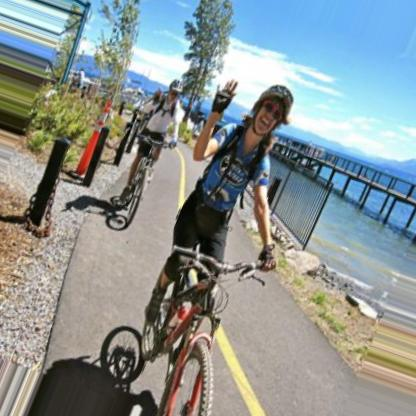with helmet: (251, 84, 292, 137), (166, 80, 182, 105)
